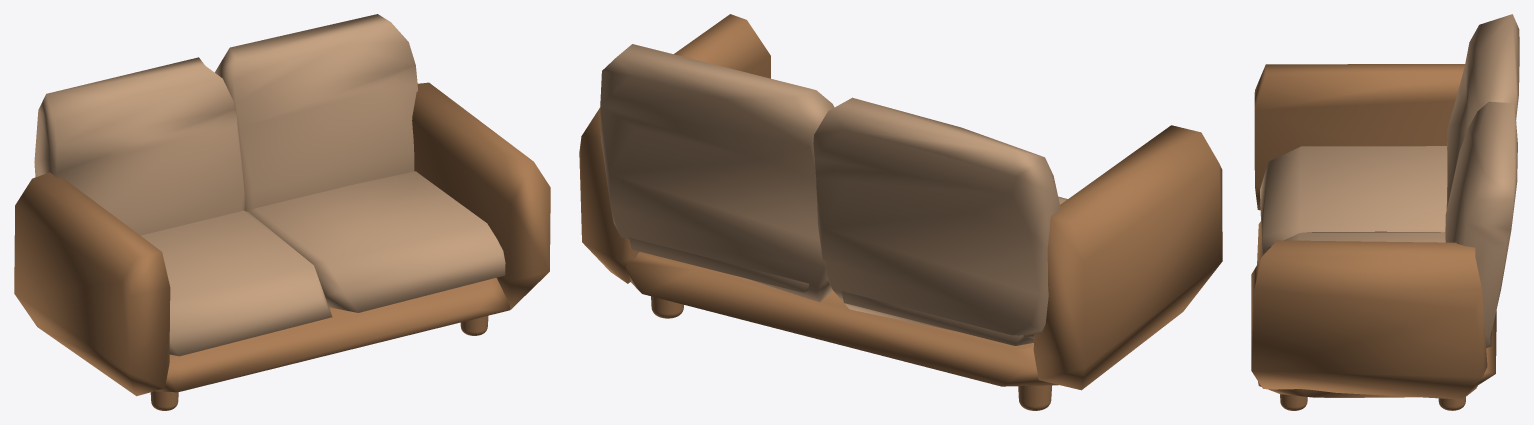
Rendered from Sofa2.glb.
The picture shows the model from 3 angles, left to right: view 1: azimuth 30°, elevation 25°; view 2: azimuth 150°, elevation 25°; view 3: azimuth 270°, elevation 25°; orthographic projection. The views are drawn at different scales.
Visible parts, largest first — view 1: 3d66-Editable_Poly-22612932-170, 3d66-Editable_Poly-22612932-171; view 2: 3d66-Editable_Poly-22612932-170, 3d66-Editable_Poly-22612932-171; view 3: 3d66-Editable_Poly-22612932-171, 3d66-Editable_Poly-22612932-170.
Part boxes in pixels (box(x1,y1,x2,y2)): 3d66-Editable_Poly-22612932-170: box(34, 14, 505, 356); 3d66-Editable_Poly-22612932-171: box(14, 82, 550, 410); 3d66-Editable_Poly-22612932-170: box(600, 44, 1067, 345); 3d66-Editable_Poly-22612932-171: box(579, 14, 1222, 410); 3d66-Editable_Poly-22612932-171: box(1251, 64, 1496, 410); 3d66-Editable_Poly-22612932-170: box(1260, 14, 1519, 347).
Bounding box in the file's own units: 1.52 × 0.8057 × 0.8195.
